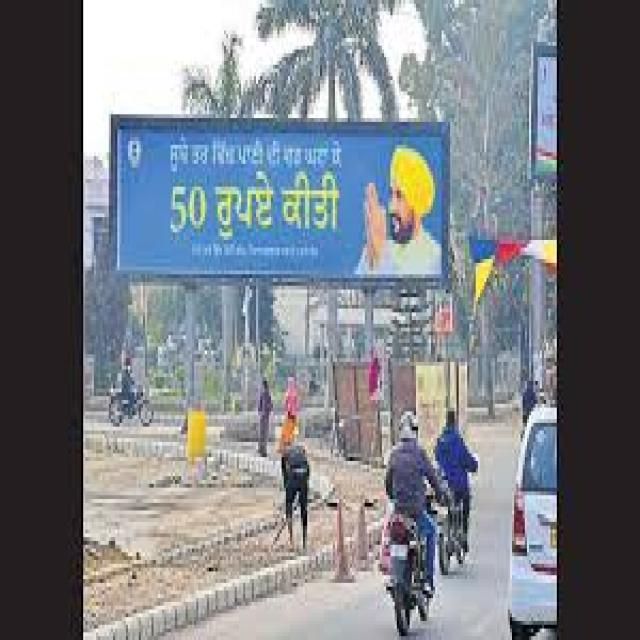Werbetafel frei: (110, 116, 446, 280)
